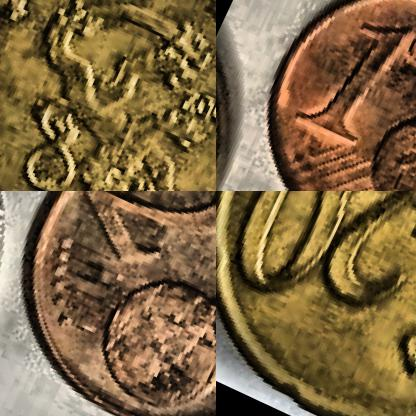coin: (0, 191, 215, 415), (216, 191, 415, 415), (0, 0, 215, 190), (225, 0, 415, 190)
